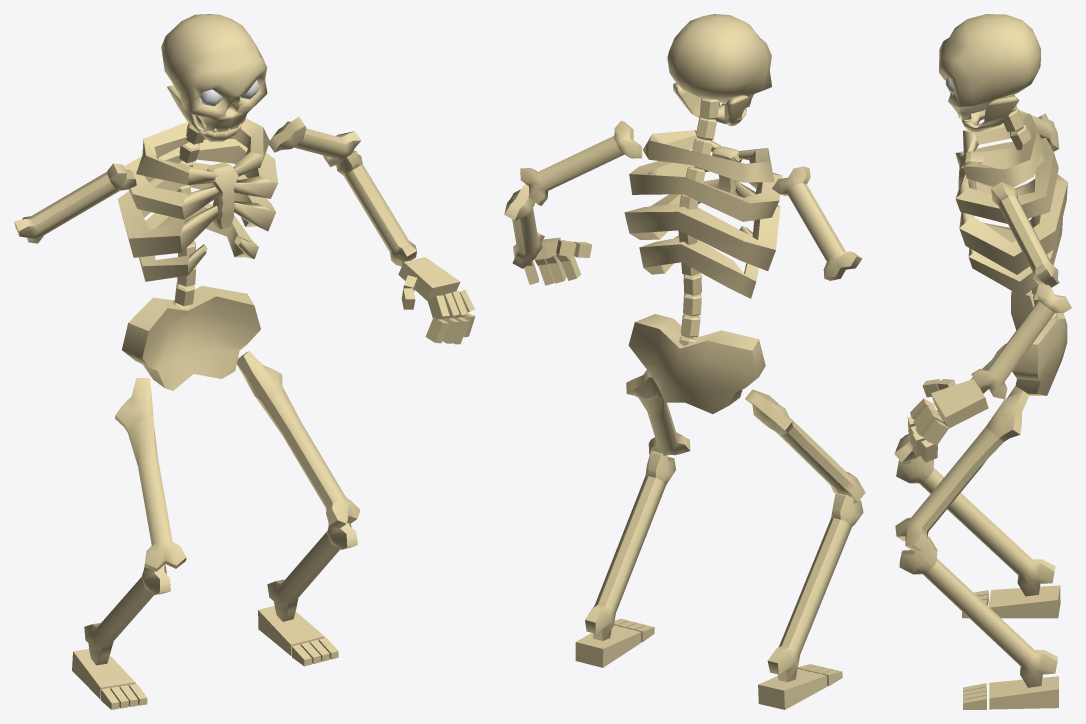
The model's file is skeleton_NOARM_frame01.fbx.
3 views of the same model, side by side, from view 1: azimuth 30°, elevation 25°; view 2: azimuth 150°, elevation 25°; view 3: azimuth 270°, elevation 25° (orthographic). The views are drawn at different scales.
Visible parts, largest first — view 1: skeleton_incharacter_frame2; view 2: skeleton_incharacter_frame2; view 3: skeleton_incharacter_frame2.
Part boxes in pixels (x1,y1,x2,y2): skeleton_incharacter_frame2: (14,14,475,709); skeleton_incharacter_frame2: (504,14,865,709); skeleton_incharacter_frame2: (894,14,1071,709).
Size of the model in its own units: 102 by 159 by 40.22.
